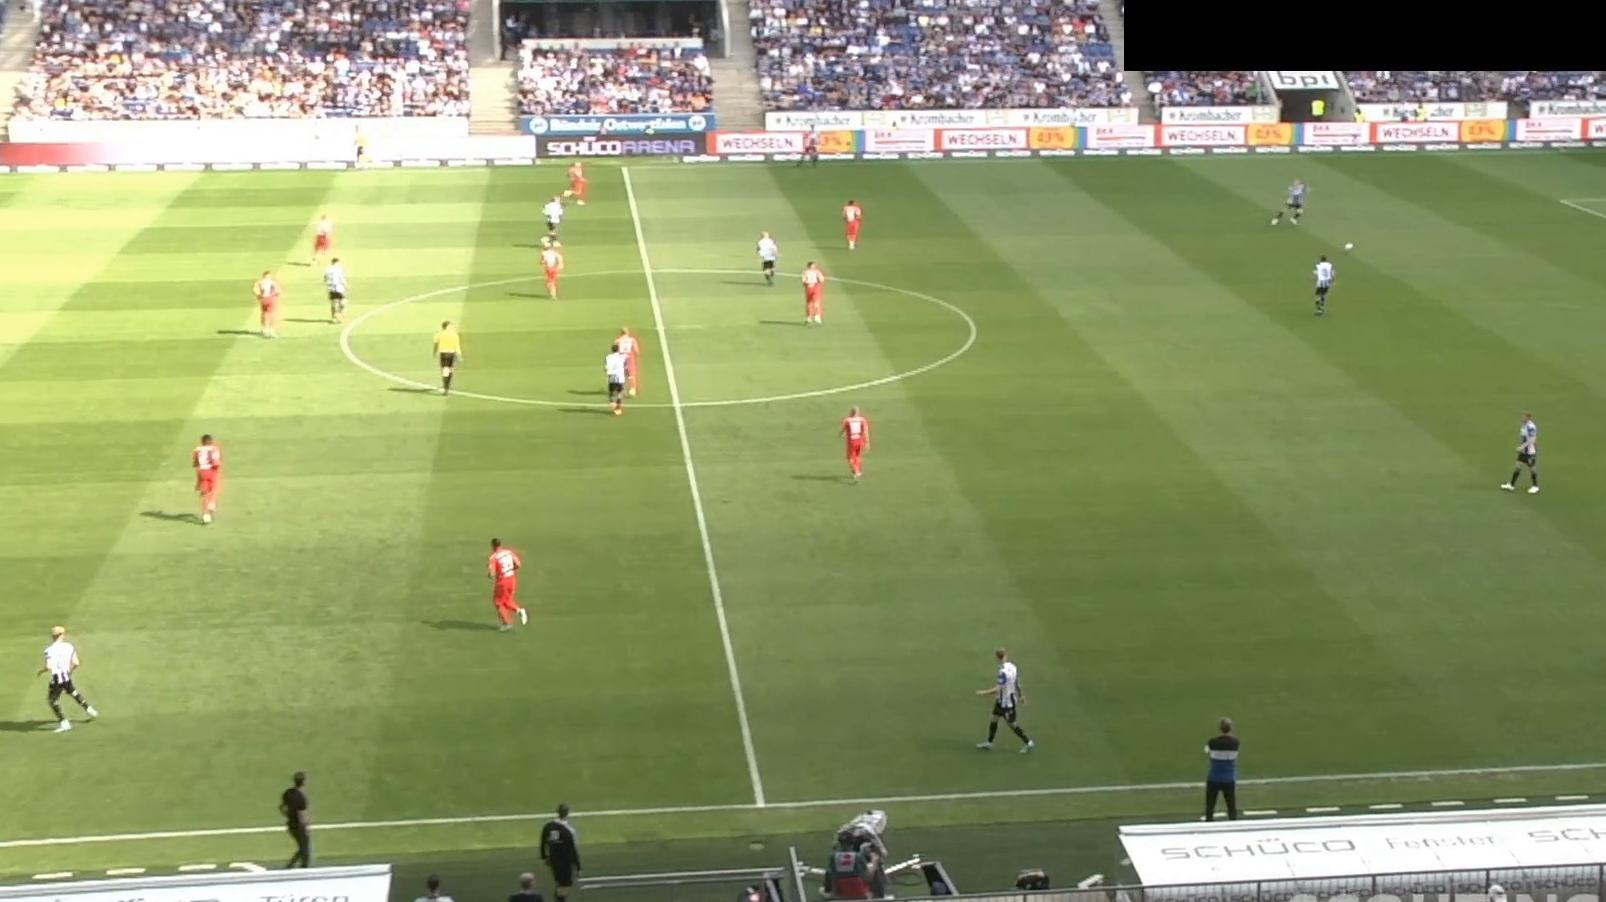ball: (1343, 241, 1355, 253)
